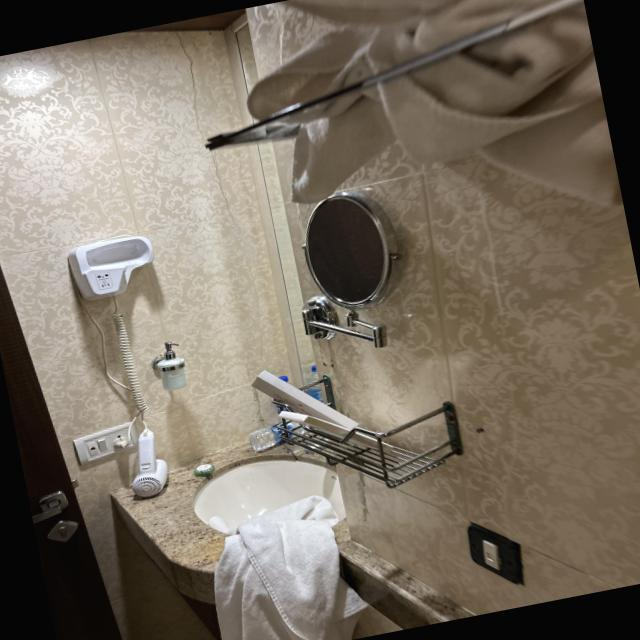mess: (114, 0, 616, 258), (170, 294, 546, 530), (110, 419, 373, 640)
